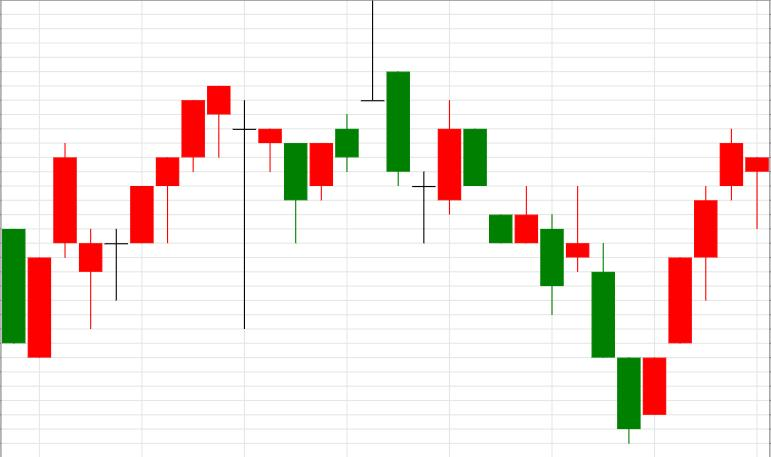hanging_man_fall: (28, 86, 231, 358)
three_white_soldiers_rise: (463, 128, 718, 444)
